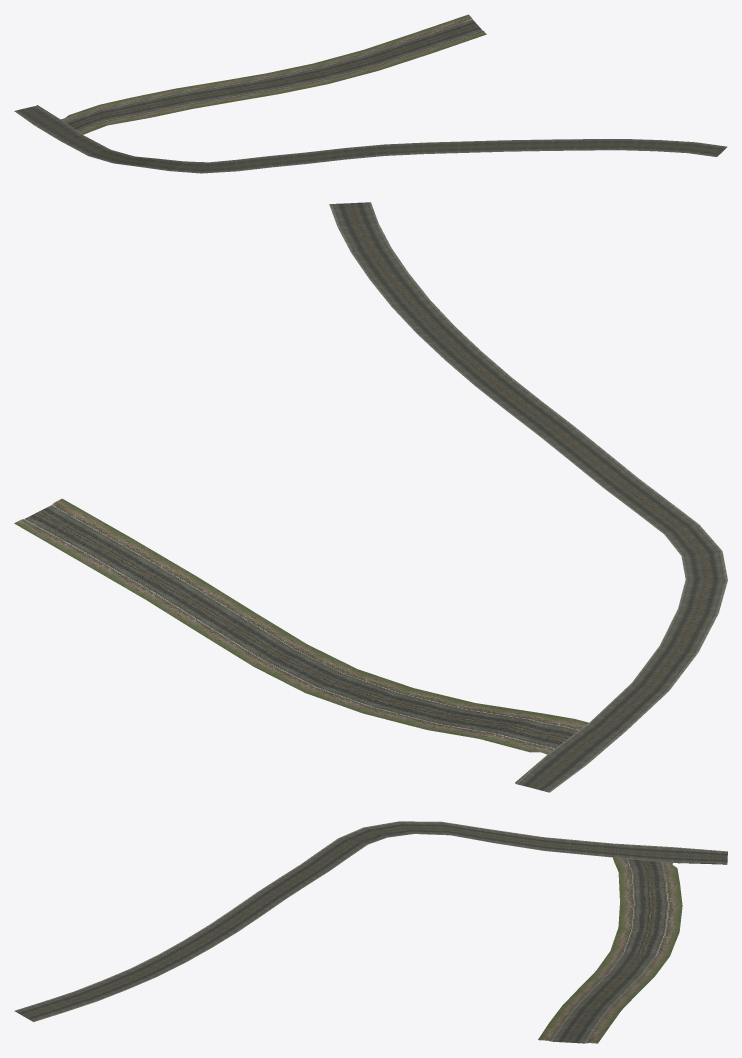
The model's file is lodcunte_roads35.obj.
3 views of the same model, one above another, from view 1: azimuth 30°, elevation 25°; view 2: azimuth 150°, elevation 25°; view 3: azimuth 270°, elevation 25° (orthographic). The views are drawn at different scales.
Visible parts, largest first — view 1: LODcunte_roads35; view 2: LODcunte_roads35; view 3: LODcunte_roads35.
Part boxes in pixels (box(x1,y1,x2,y2)): LODcunte_roads35: box(14, 14, 727, 173); LODcunte_roads35: box(14, 202, 727, 792); LODcunte_roads35: box(14, 821, 727, 1043).
Bounding box in the file's own units: 218 × 33.32 × 258.
1 material, 1 textured.
